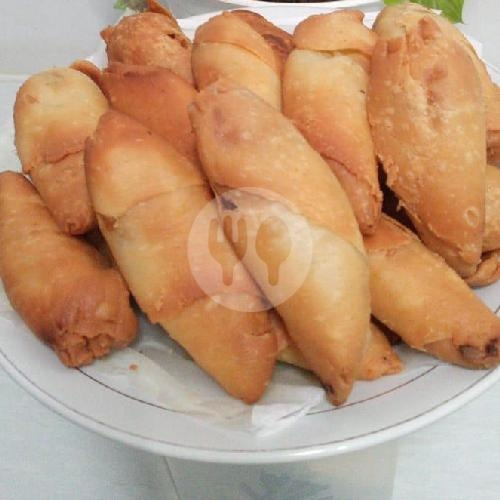pisang_molen: (185, 79, 370, 404), (86, 107, 281, 402), (368, 6, 484, 275)
